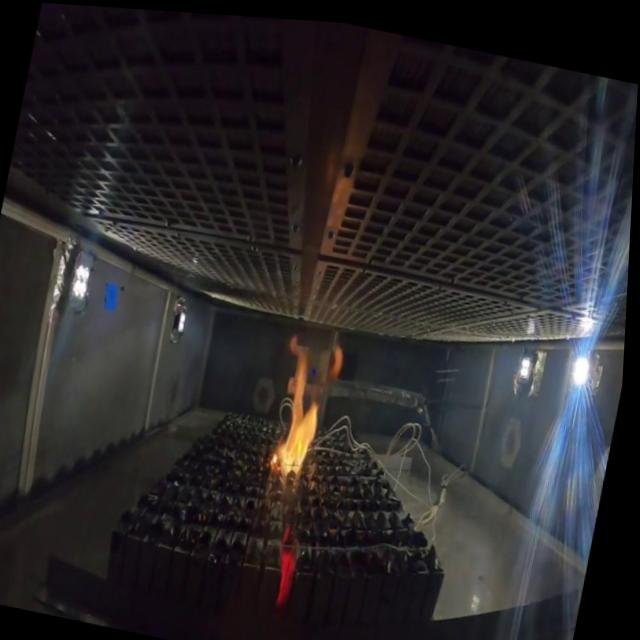fire: (260, 320, 354, 493)
